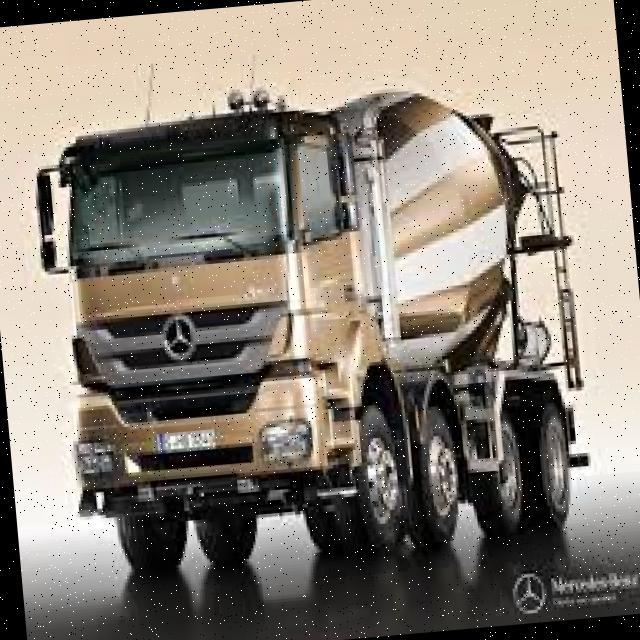Mixer Truck: (23, 61, 600, 582)
